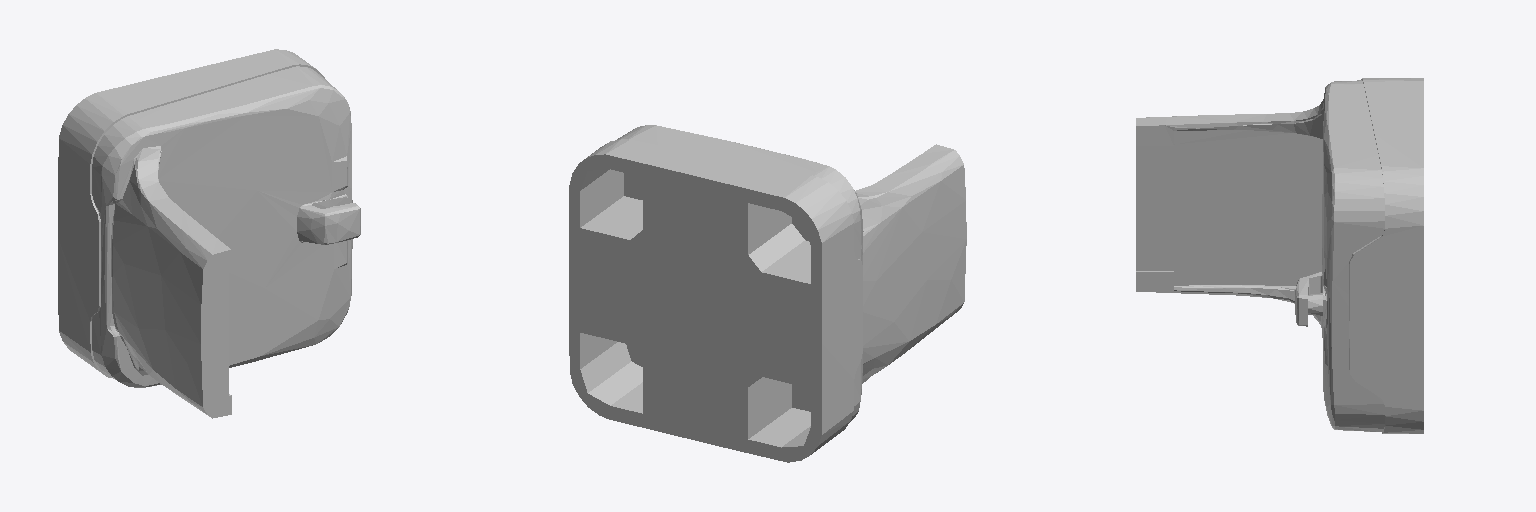
3 views of the same model, side by side, from view 1: azimuth 30°, elevation 25°; view 2: azimuth 150°, elevation 25°; view 3: azimuth 270°, elevation 25° (orthographic).
Parts seen in each view (by area): view 1: base2_M1K; view 2: base2_M1K; view 3: base2_M1K.
Boxes of the visible parts, x1,y1,x2,y2 form: base2_M1K: [58, 49, 360, 418]; base2_M1K: [569, 125, 966, 462]; base2_M1K: [1136, 78, 1423, 433].
Bounding box in the file's own units: 0.6694 × 0.6668 × 0.6562.